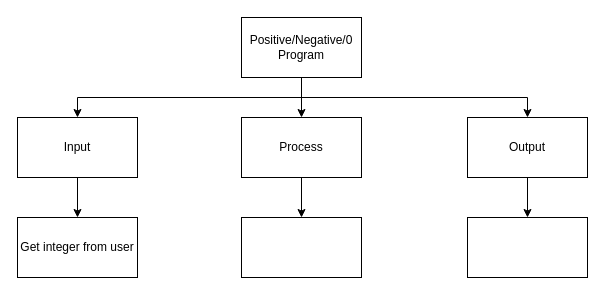
Some shapes in this 605 by 295 pixel diagram are drawn without their labels. The centre of each missing label's shape, as x and y in pixels:
Check if integer is positive, negative or zero: the point at 301,247
Show user whether it is positive, negative or zero.: the point at 527,247
